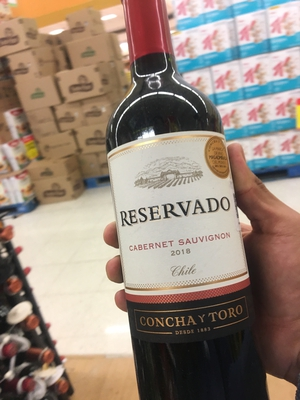reservado cabernet sauvignon: (106, 5, 266, 400)
